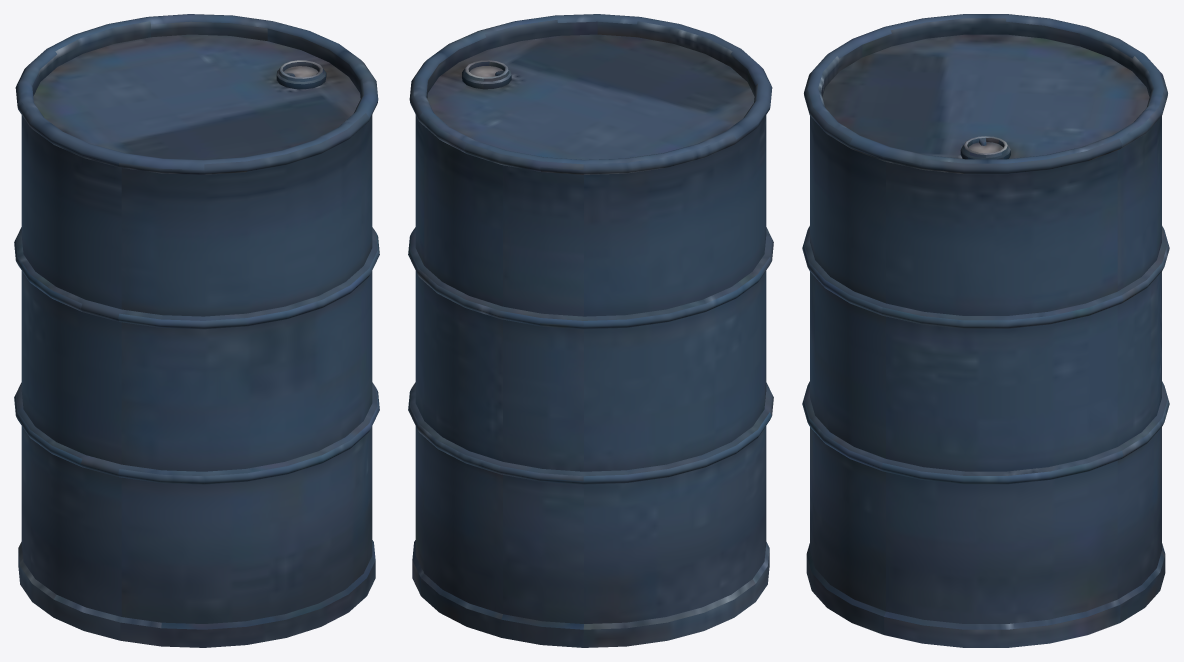
Rendered from drum.glb.
3 renders of one model, left to right at view 1: azimuth 30°, elevation 25°; view 2: azimuth 150°, elevation 25°; view 3: azimuth 270°, elevation 25°, orthographic.
Parts seen in each view (by area): view 1: drum; view 2: drum; view 3: drum.
Boxes of the visible parts, x1,y1,x2,y2 form: drum: (14, 14, 379, 647); drum: (408, 14, 773, 647); drum: (802, 14, 1169, 647).
Size of the model in its own units: 0.6132 by 0.9 by 0.6177.
1 material, 1 textured.
